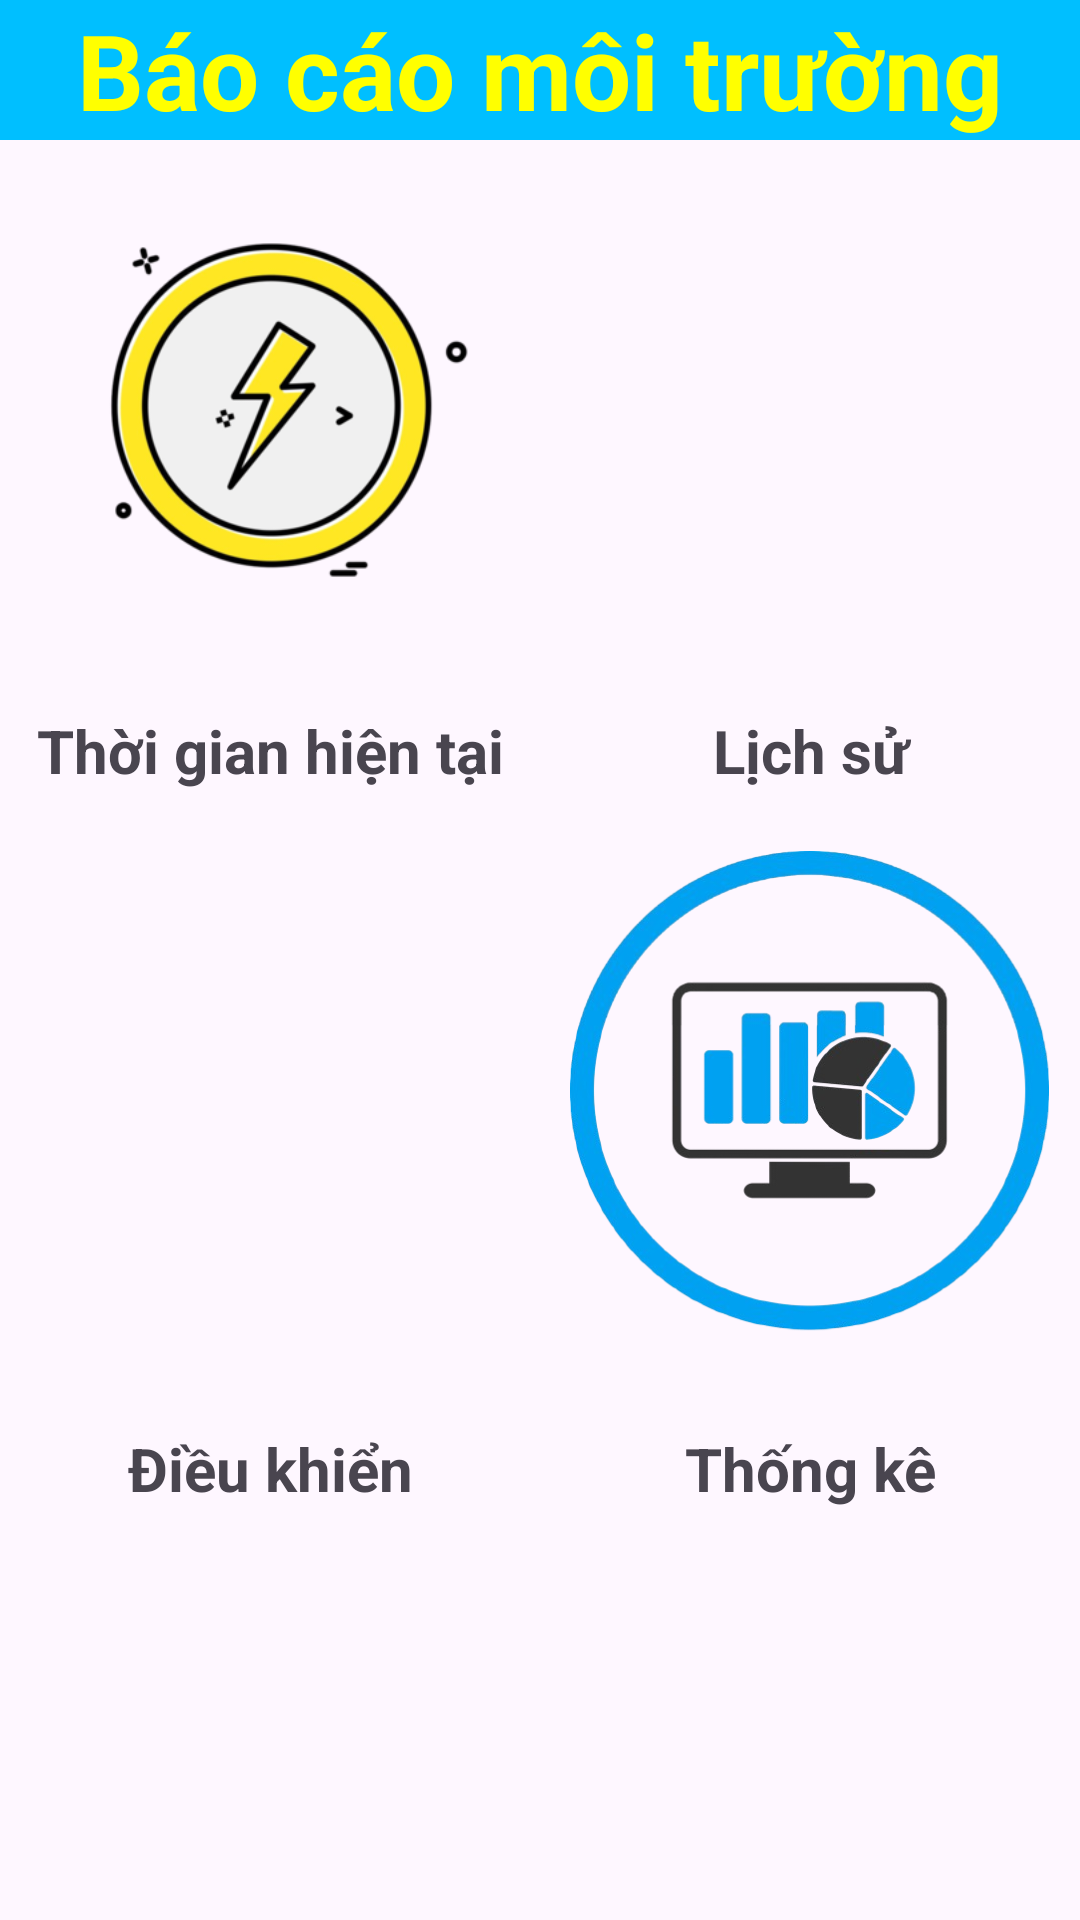

Icons on this 1080px×1920px Android screen, each with its box as [left=x1, top=y1, right=x2, bottom=y2]:
current: [left=110, top=243, right=468, bottom=577]
